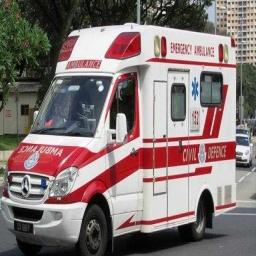Ambulance: (1, 24, 235, 255)
